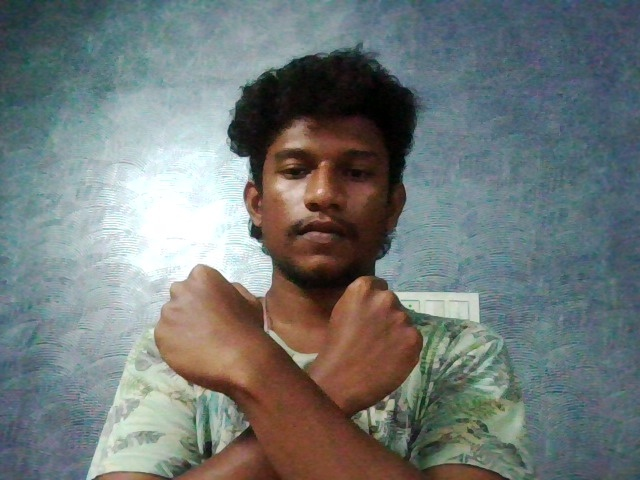danger: (139, 250, 450, 480)
